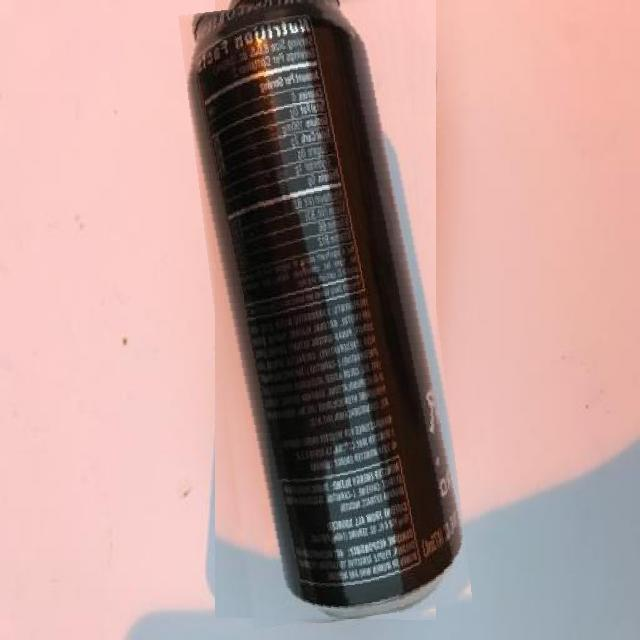recyclable: (196, 0, 454, 623)
